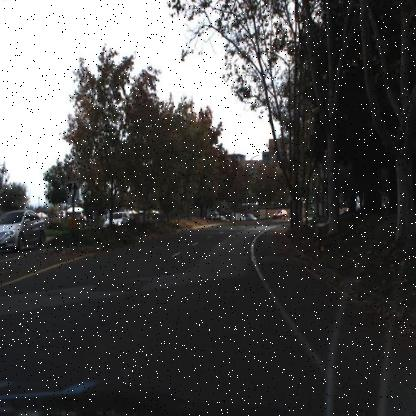car: (0, 208, 48, 250), (101, 206, 135, 233), (101, 209, 130, 232)
